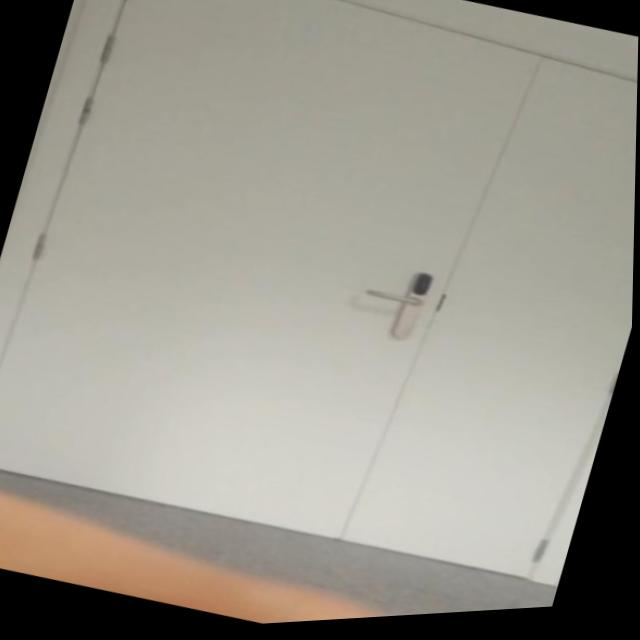door_handle: (352, 282, 434, 322)
